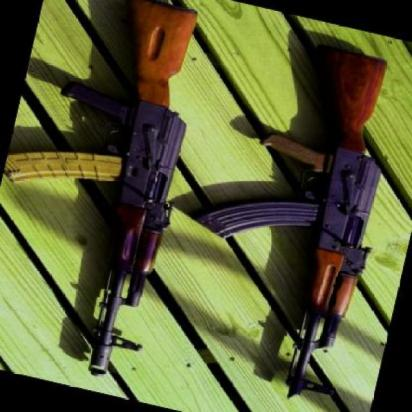Gun: (157, 20, 412, 412), (0, 5, 235, 393)
